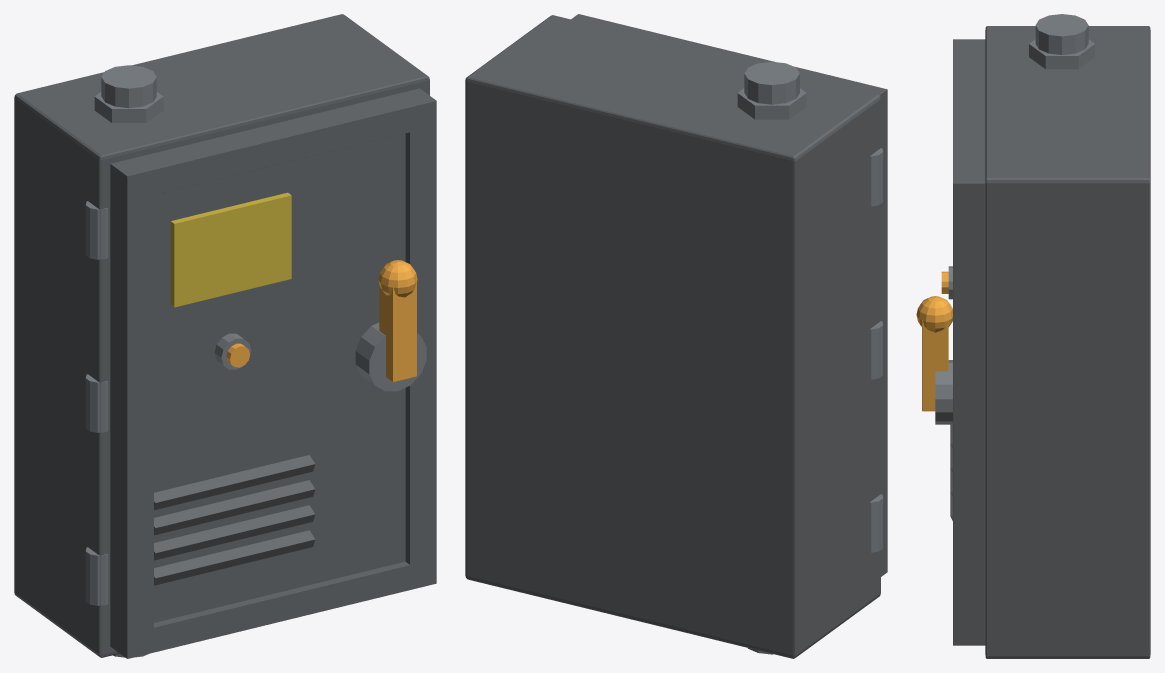
The model's file is Ch2_Breaker.fbx.
3 renders of one model, left to right at view 1: azimuth 30°, elevation 25°; view 2: azimuth 150°, elevation 25°; view 3: azimuth 270°, elevation 25°, orthographic. The views are drawn at different scales.
Parts seen in each view (by area): view 1: Ch2_Breaker; view 2: Ch2_Breaker; view 3: Ch2_Breaker.
Boxes of the visible parts, <box> form: Ch2_Breaker: <box>14,14,436,658</box>; Ch2_Breaker: <box>465,14,887,658</box>; Ch2_Breaker: <box>916,14,1150,658</box>.
Bounding box in the file's own units: 0.6309 × 1.02 × 0.397.
